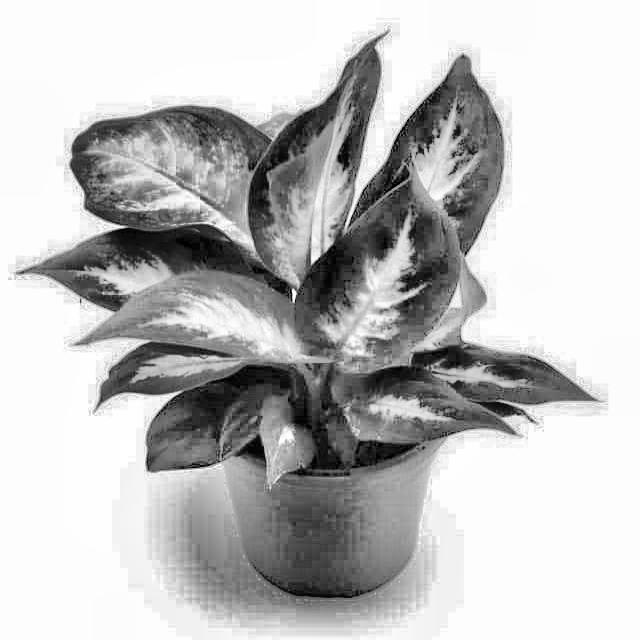plants: (89, 72, 540, 466)
